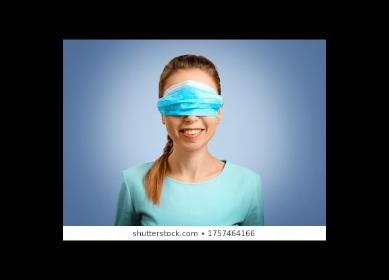mask_weared_incorrect: (164, 78, 224, 148)
